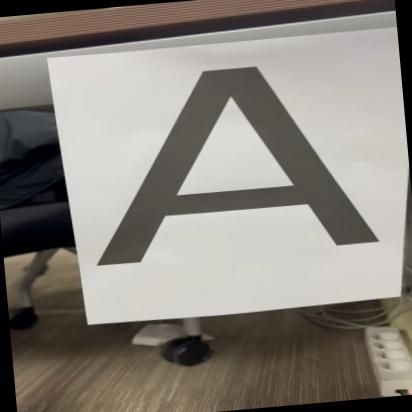seat: (70, 44, 399, 276)
